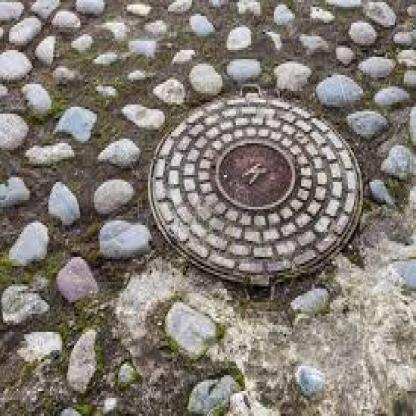manholes: (129, 59, 390, 325)
